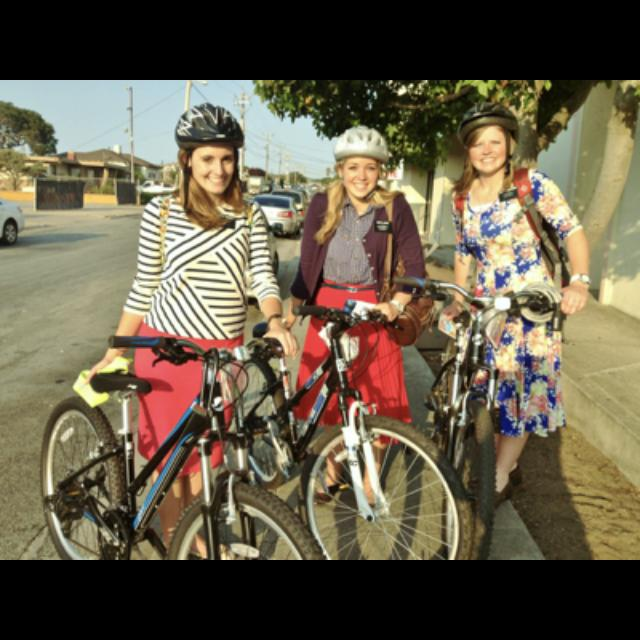With Helmet: (170, 99, 256, 195), (451, 100, 523, 176), (328, 122, 392, 202)
